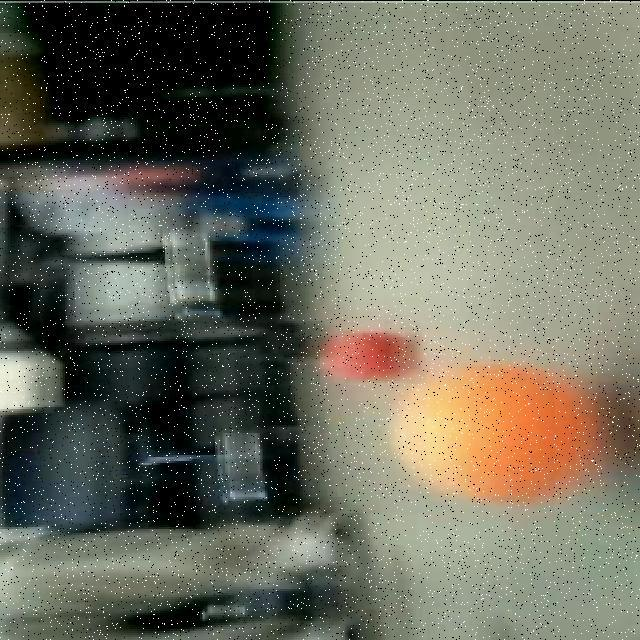ping-pong-ball: (383, 358, 602, 516), (320, 324, 404, 384)
